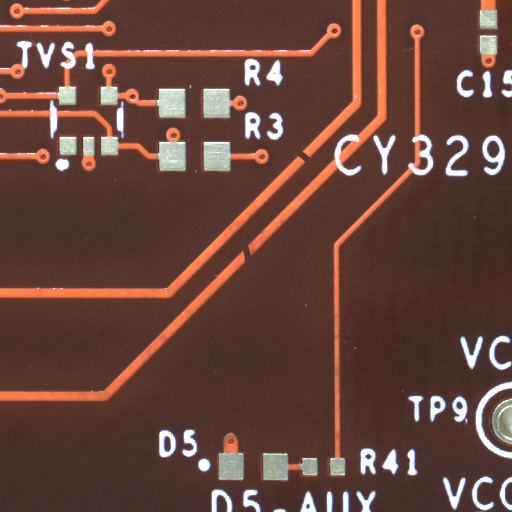Open_circuit: (304, 156, 323, 177), (247, 252, 257, 277)
